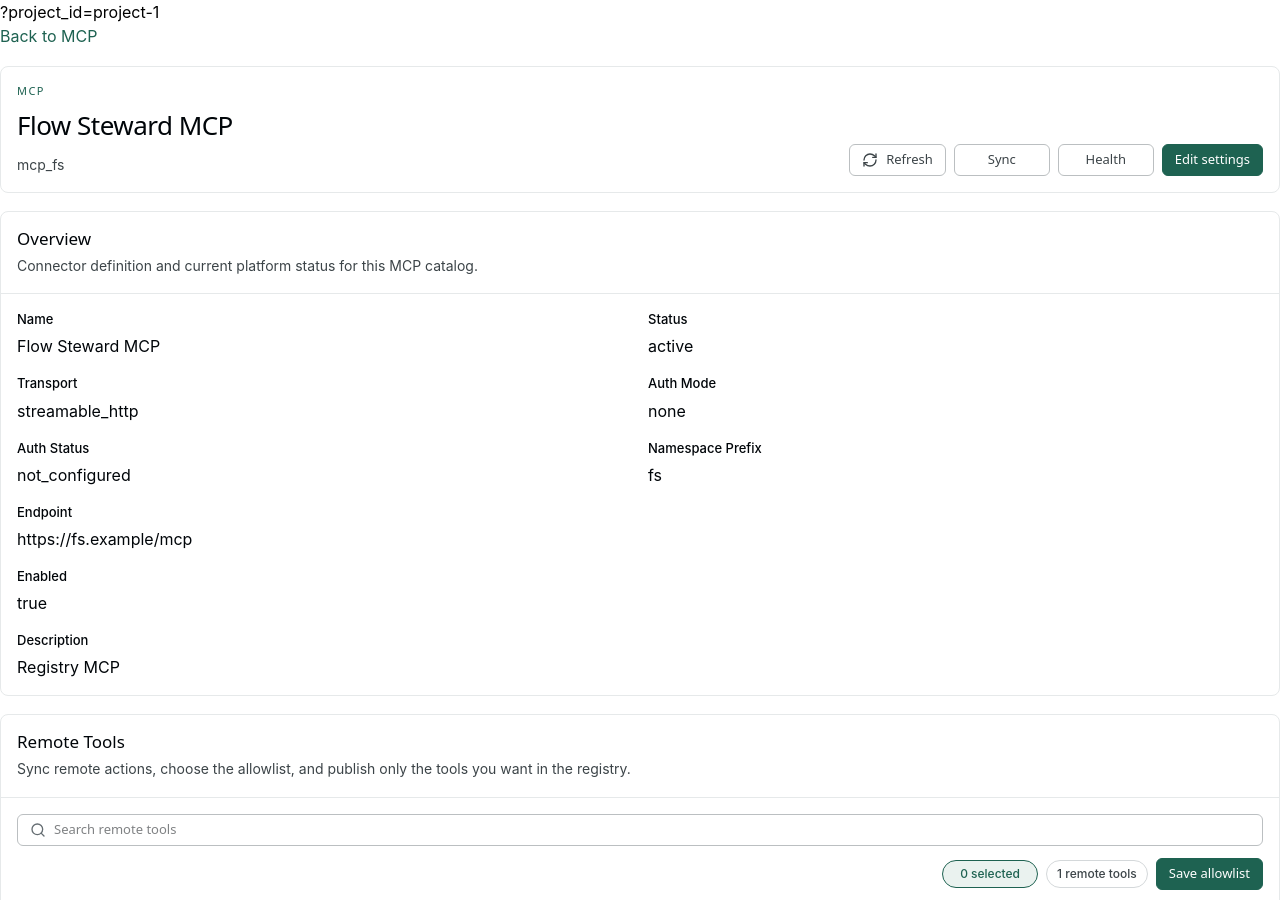
RegistryMcpDetailPage › keeps the settings dialog open when a replacement header row is incomplete
Expected: the heading "Flow Steward MCP" is shown, [17,107,233,143]
Step 1. Click the button "Edit settings" → click(1212, 160), box [1162,144,1263,176]
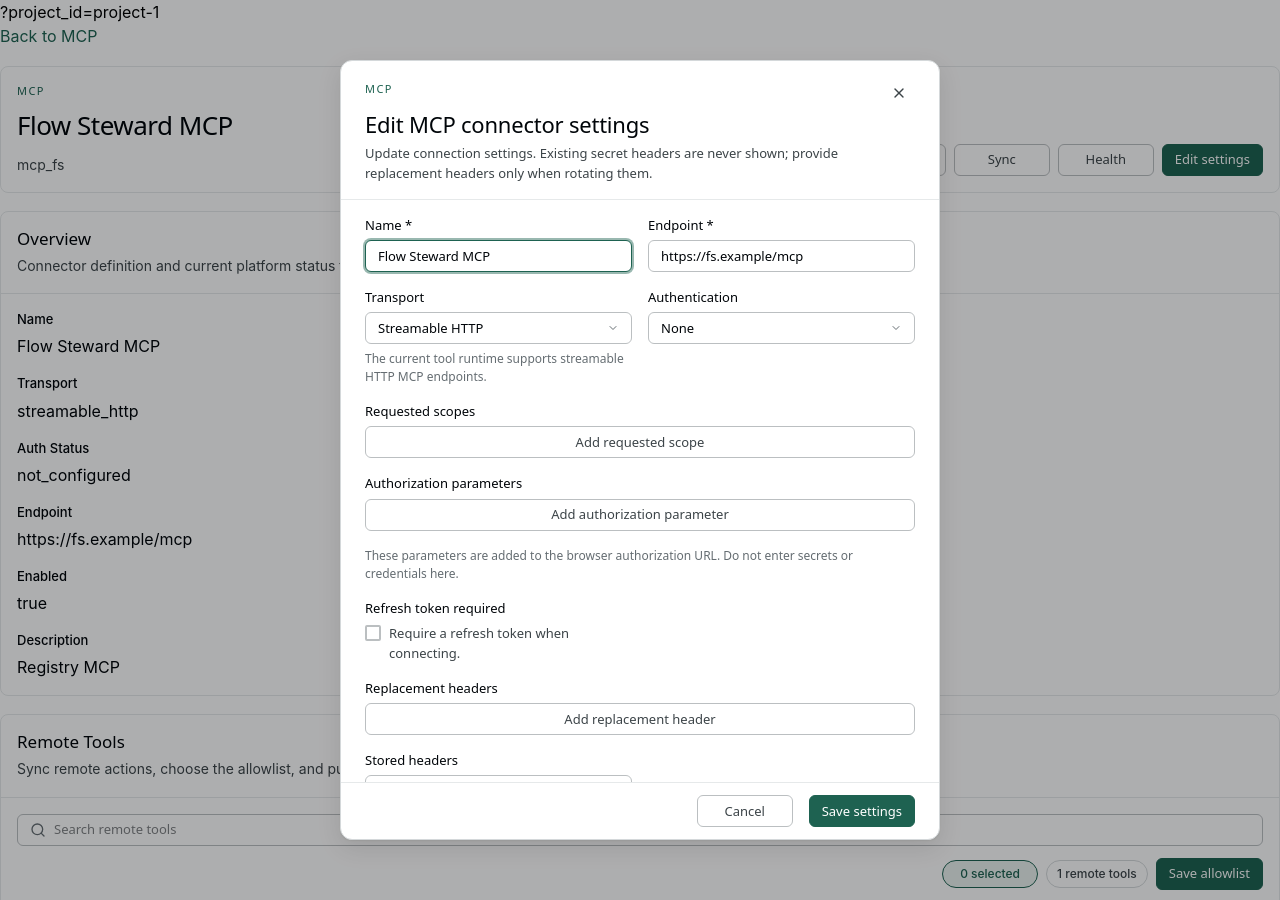
Step 2. Click the button "Add replacement header" → click(640, 719), box [365,703,915,735]
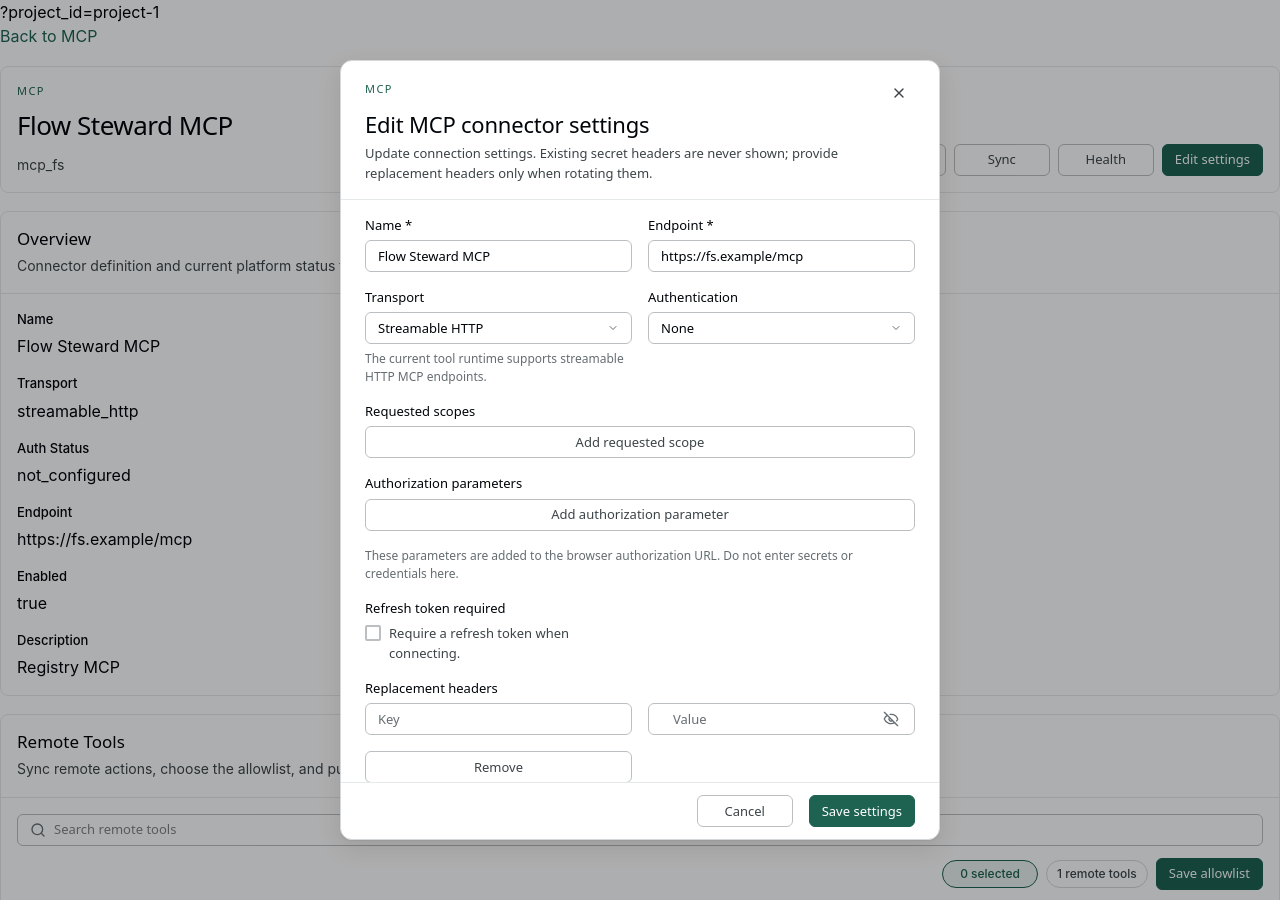
Step 3. Type "X-Api-Key" into the field named "Replacement header key" → (498, 719), box [365,703,632,735]
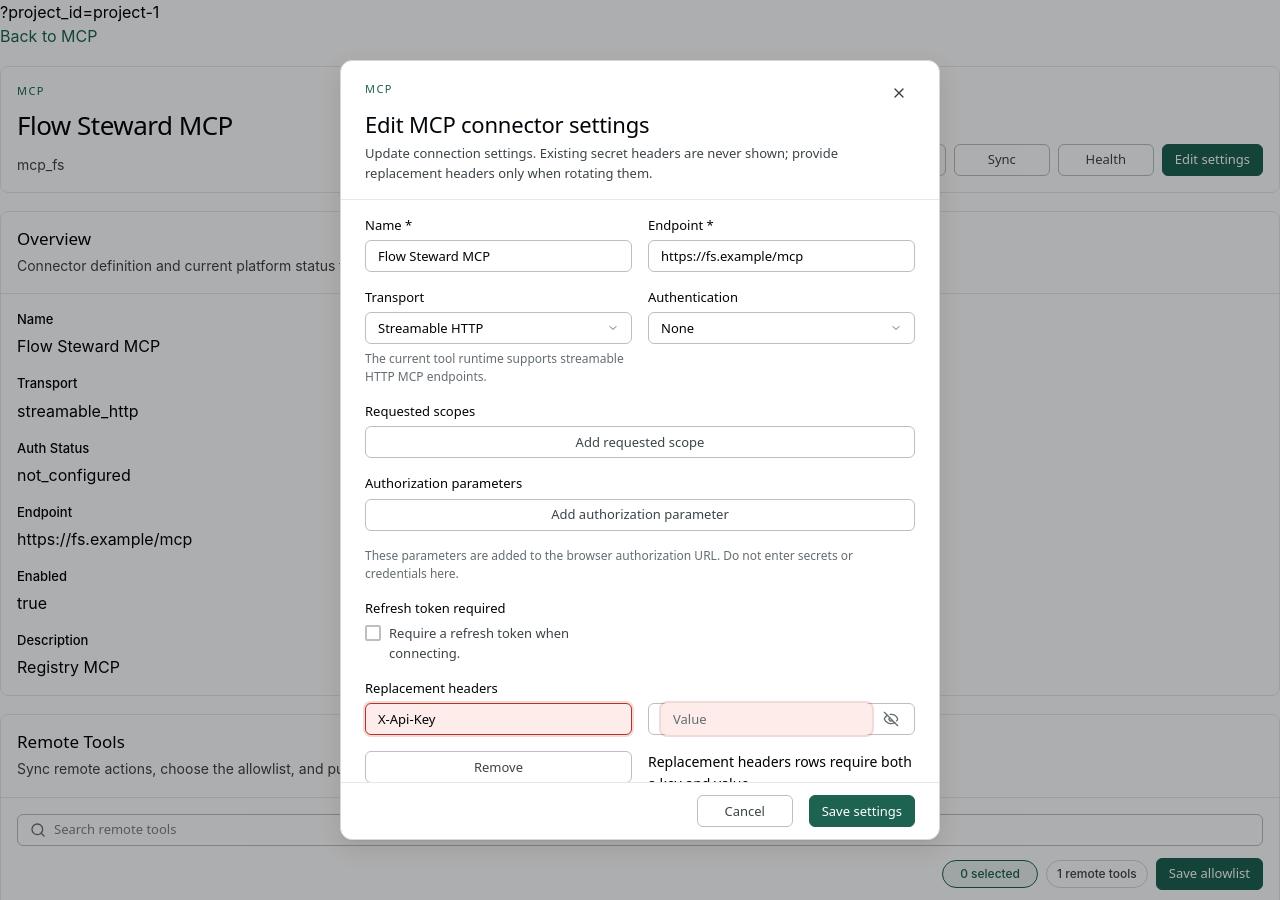
Step 4. Click the button "Save settings" → click(862, 811), box [809,795,915,827]
(page scrolled)
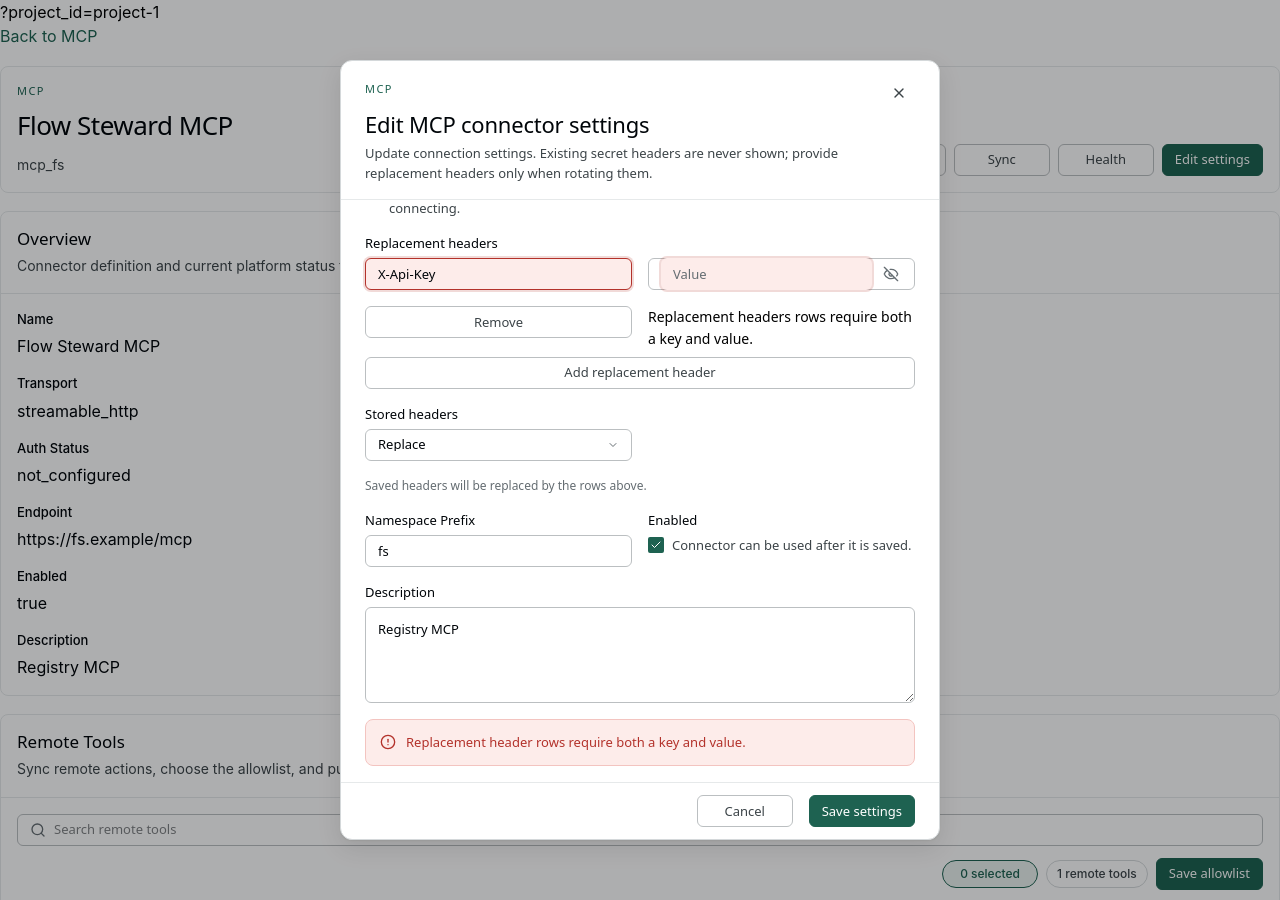
Result: the text "Replacement header rows require both a key and value." is shown at [406,733,746,751]
